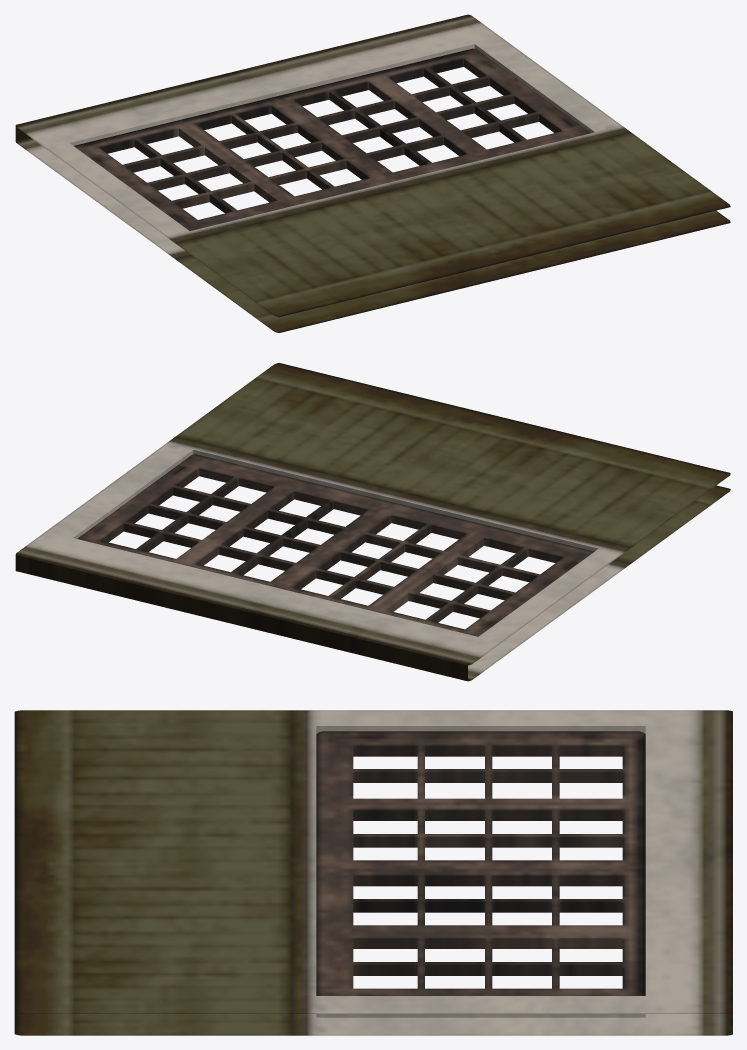
Rendered from SM_EC_House_Wall_Window_0_3x3_1.fbx.
3 renders of one model, top to bottom at view 1: azimuth 30°, elevation 25°; view 2: azimuth 150°, elevation 25°; view 3: azimuth 270°, elevation 25°, orthographic. The views are drawn at different scales.
Visible parts, largest first — view 1: SM_EC_House_Wall_Window_0_3x3_1; view 2: SM_EC_House_Wall_Window_0_3x3_1; view 3: SM_EC_House_Wall_Window_0_3x3_1.
Boxes of the visible parts, x1=… form: SM_EC_House_Wall_Window_0_3x3_1: x1=15, y1=14, x2=730, y2=332; SM_EC_House_Wall_Window_0_3x3_1: x1=15, y1=363, x2=730, y2=681; SM_EC_House_Wall_Window_0_3x3_1: x1=14, y1=710, x2=732, y2=1035.
Size of the model in its own units: 3 by 3 by 0.1.
